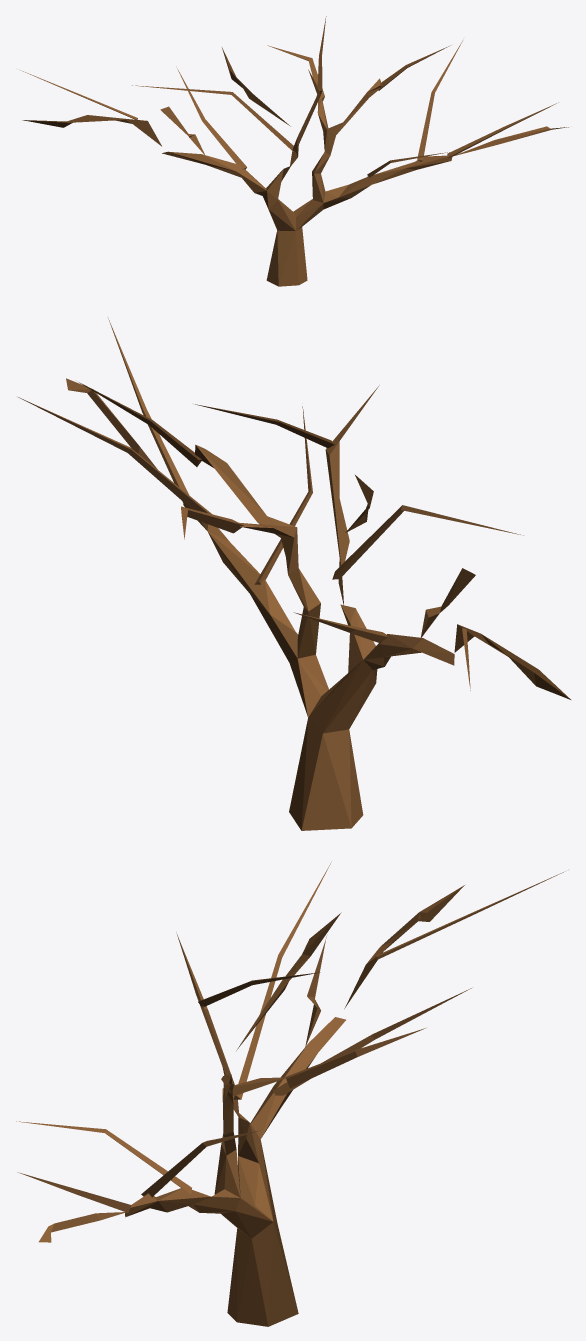
File: jacaranda_4_bare_far.glb
The picture shows the model from 3 angles, top to bottom: view 1: azimuth 30°, elevation 25°; view 2: azimuth 150°, elevation 25°; view 3: azimuth 270°, elevation 25°; orthographic projection. The views are drawn at different scales.
Visible parts, largest first — view 1: jacaranda_4_bare_far; view 2: jacaranda_4_bare_far; view 3: jacaranda_4_bare_far.
Part boxes in pixels (box(x1,y1,x2,y2)): jacaranda_4_bare_far: box(20, 16, 568, 286); jacaranda_4_bare_far: box(18, 318, 570, 830); jacaranda_4_bare_far: box(16, 862, 565, 1326).
Size of the model in its own units: 9.75 by 5.24 by 6.86.
